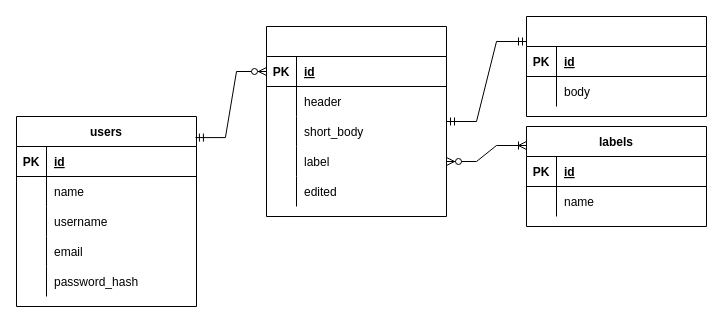
Image size: 723x323. Some labels were removed from this diagram. The shapes that lost their labels are listed below. From the top down, each one's box as (x1, y1, x2, y2) in pixels, then its label:
(526, 16, 706, 116): reports_body
(266, 26, 446, 216): reports
